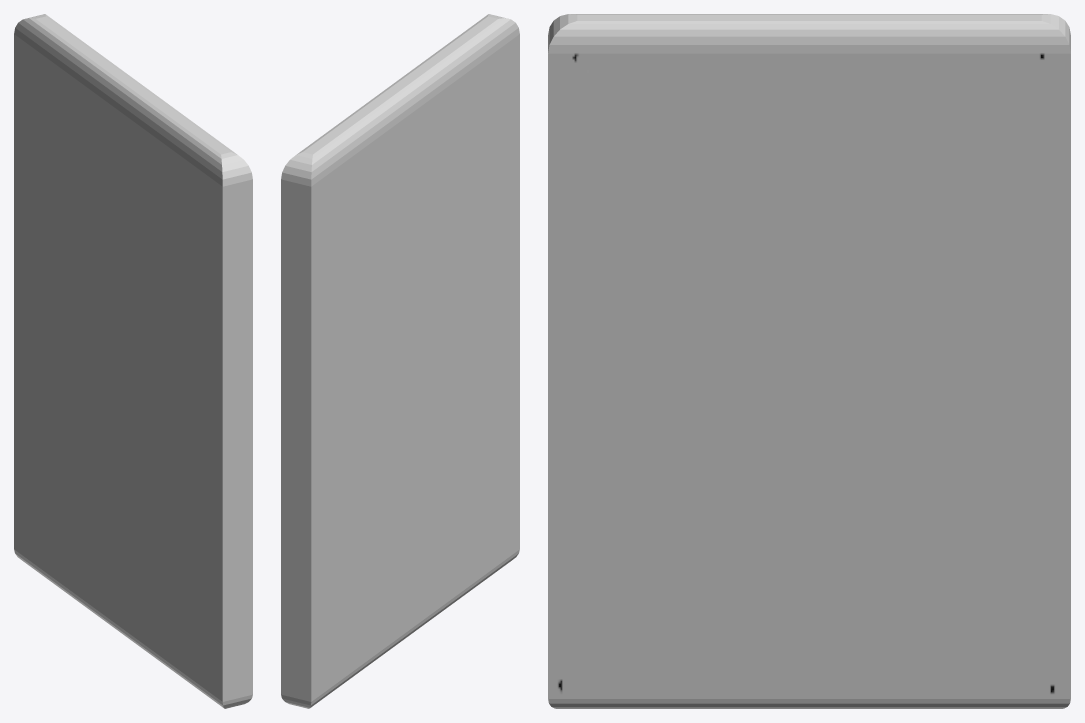
File: GameCard.fbx
3 renders of one model, left to right at view 1: azimuth 30°, elevation 25°; view 2: azimuth 150°, elevation 25°; view 3: azimuth 270°, elevation 25°, orthographic. The views are drawn at different scales.
Parts seen in each view (by area): view 1: Cube; view 2: Cube; view 3: Cube.
Boxes of the visible parts, box(x1,y1,x2,y2) form: Cube: box(14, 14, 252, 708); Cube: box(281, 14, 519, 708); Cube: box(548, 14, 1070, 708).
Bounding box in the file's own units: 36.14 × 628 × 432.
